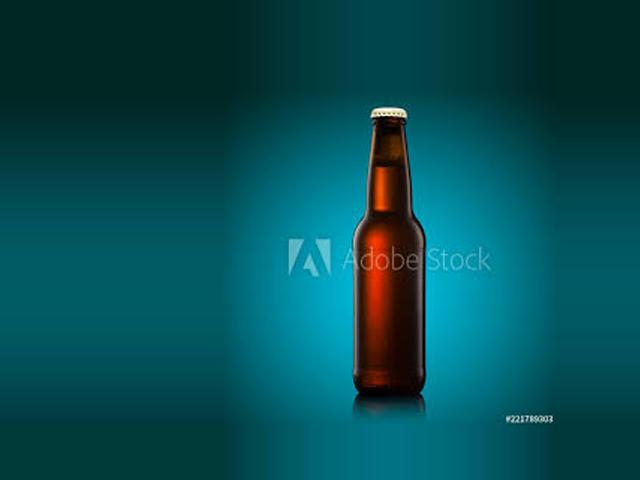beer: (353, 107, 427, 395)
